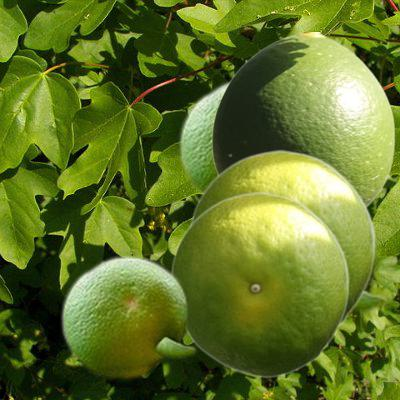dalandan: (171, 191, 348, 377), (189, 149, 374, 325), (211, 32, 394, 205), (59, 253, 197, 380), (177, 78, 230, 194), (349, 202, 390, 316)
